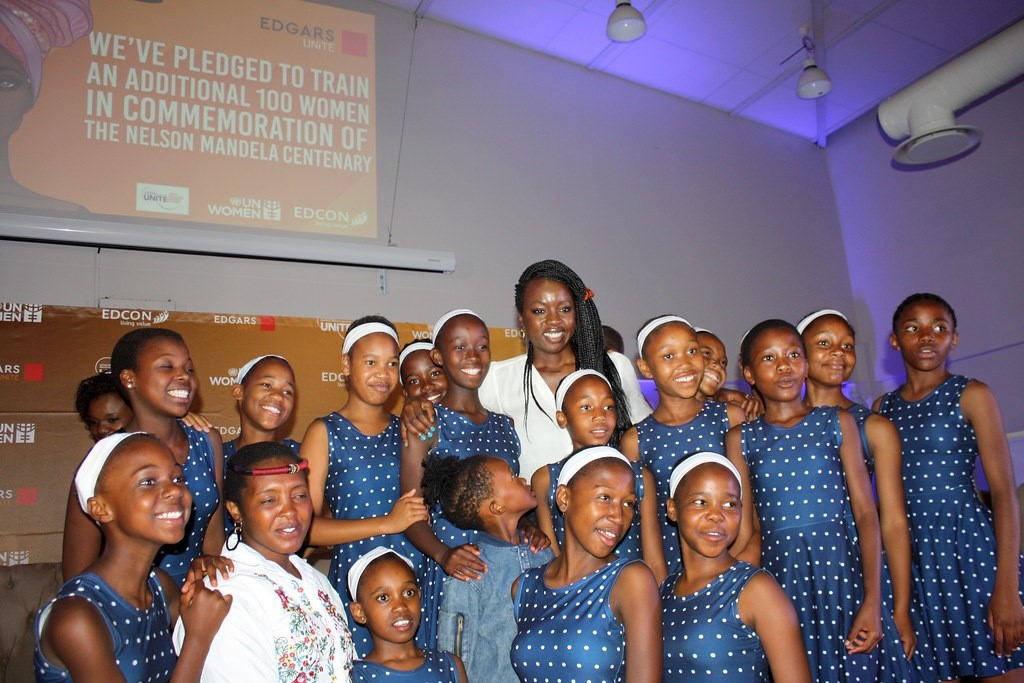face_no_mask: (76, 434, 191, 544), (225, 445, 312, 556), (555, 452, 637, 556), (666, 453, 743, 560), (438, 455, 539, 531), (116, 329, 199, 419), (349, 545, 422, 642), (636, 312, 705, 405), (517, 259, 585, 352), (741, 320, 810, 401), (893, 293, 961, 375), (231, 354, 300, 431), (343, 317, 399, 406), (557, 368, 614, 447), (434, 309, 493, 385), (802, 306, 857, 386), (80, 373, 133, 445), (400, 339, 448, 406), (697, 329, 731, 398)
